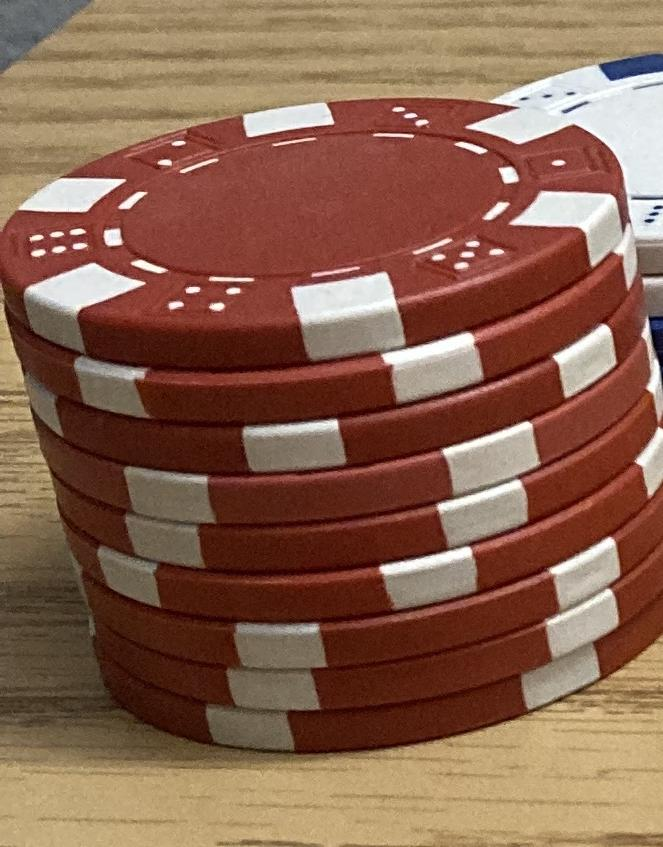Chip: (1, 1, 663, 847)
